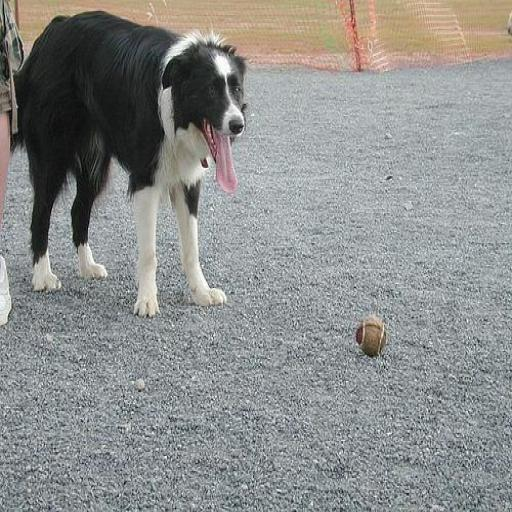dog_face: (170, 33, 262, 168)
